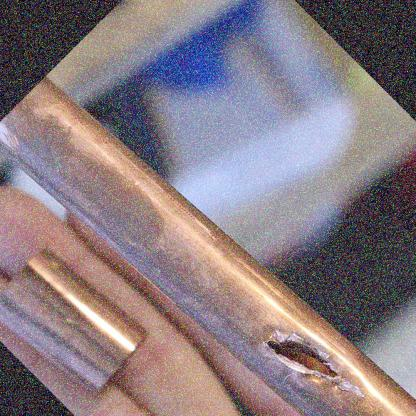burst: (261, 332, 345, 392)
